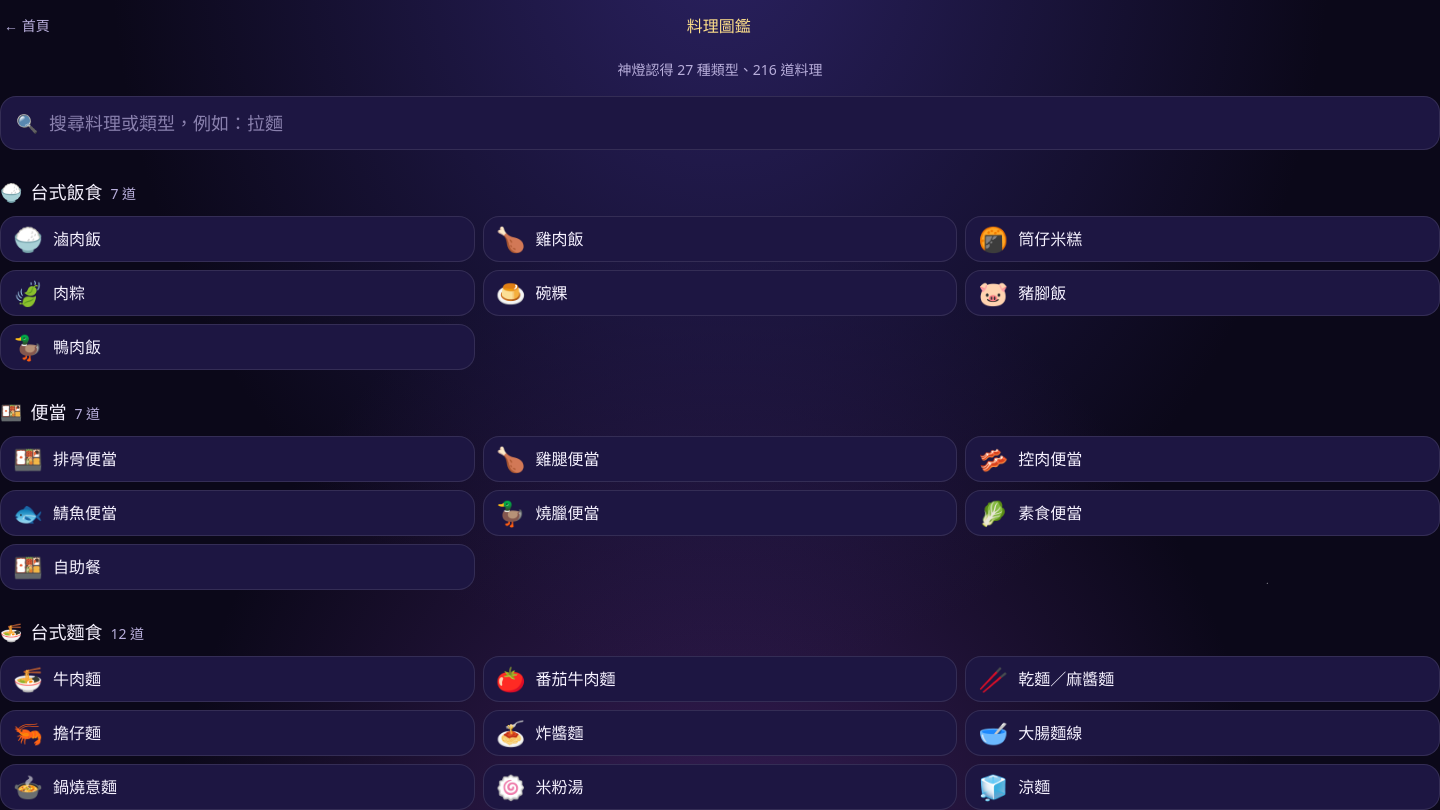
Scenario: 料理圖鑑頁 › 點料理會展開「神燈眼中的它」標籤
Type "牛肉麵" into the search field labelled "🔍" at (720,123), box [0,96,1439,150]
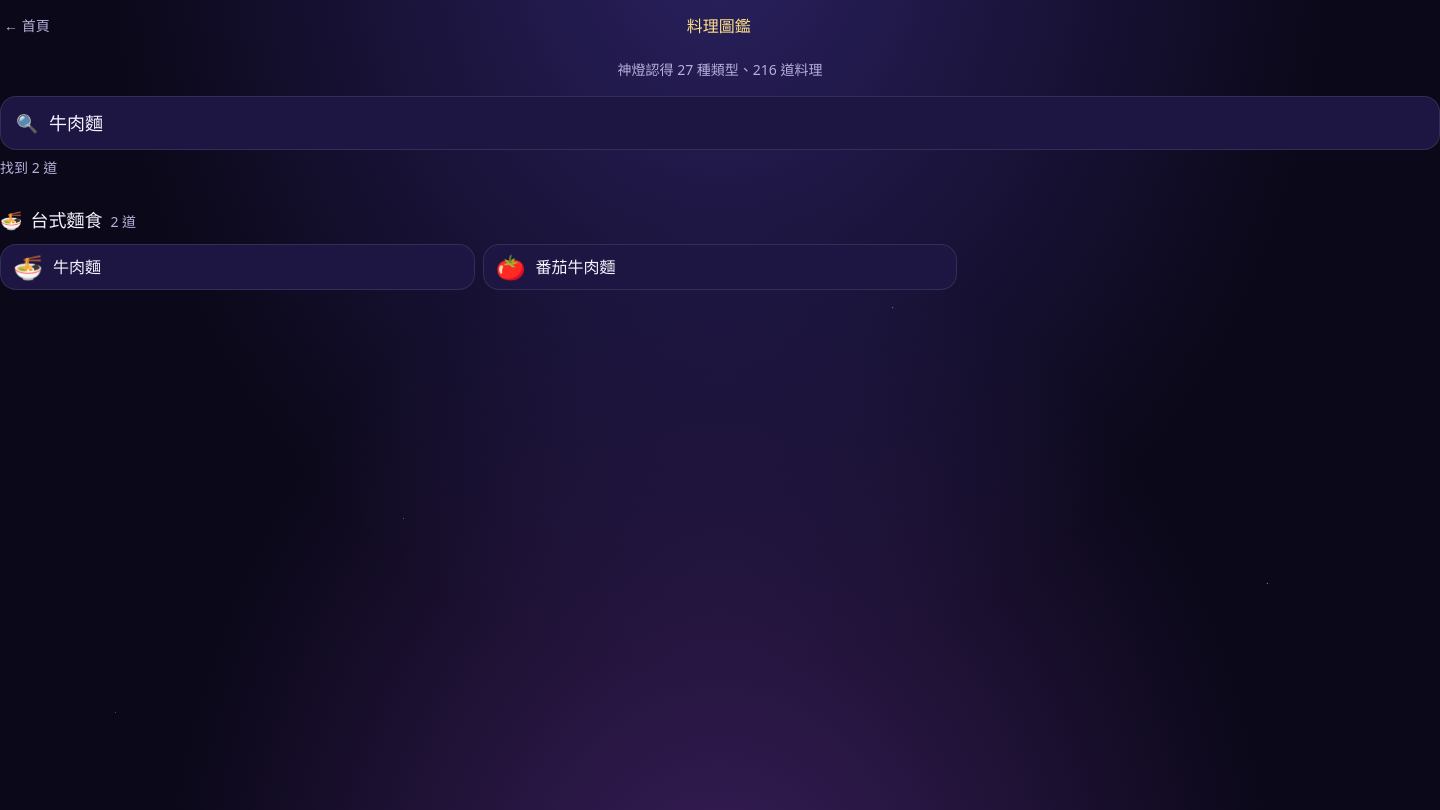
Click the button "🍜 牛肉麵" at (77,267), box [0,244,475,290]
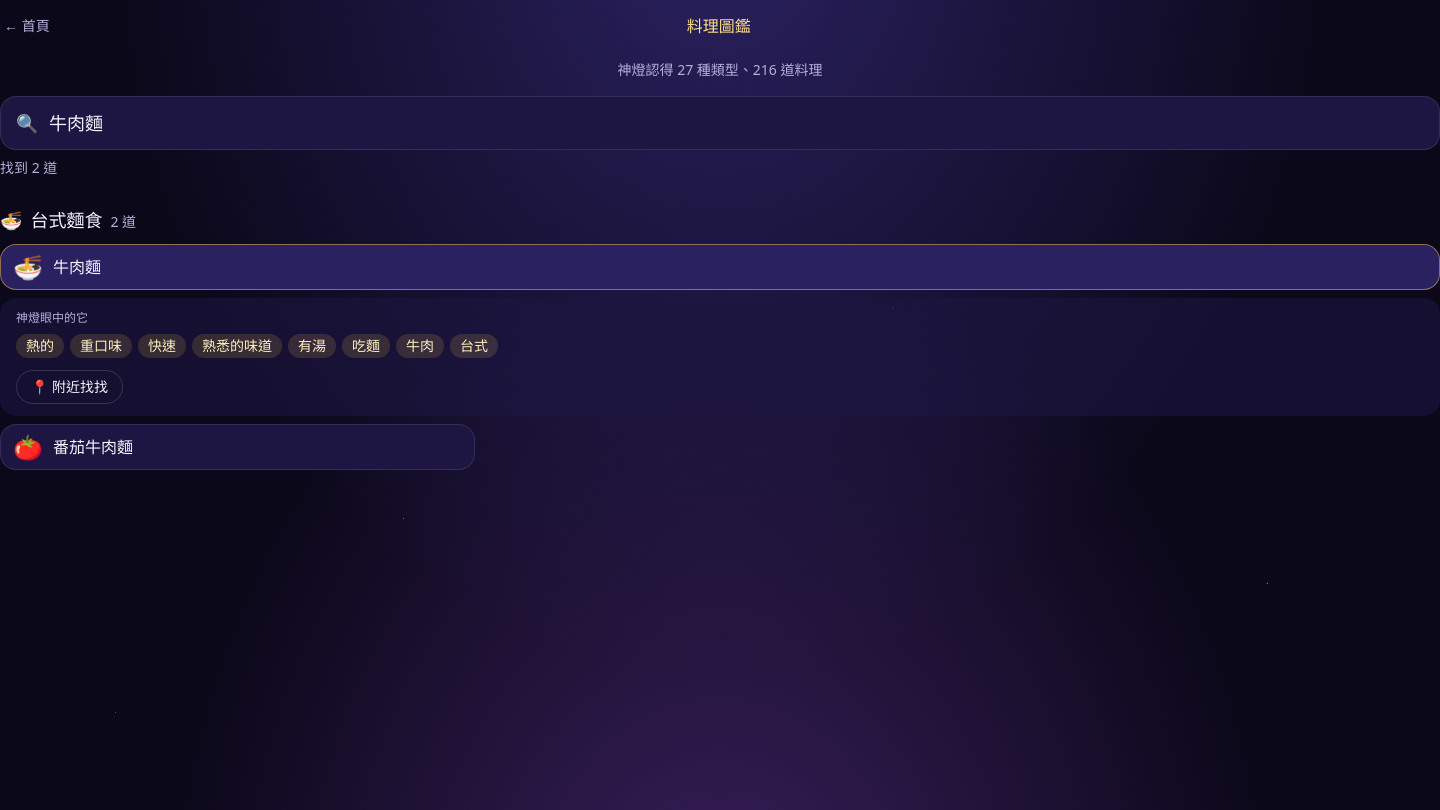
Now the text "神燈眼中的它" is shown, box [16,309,88,326]
Now the button "🍜 牛肉麵" is expanded, box [0,244,1439,290]
Now the text "附近找找" is shown, box [16,370,123,404]
